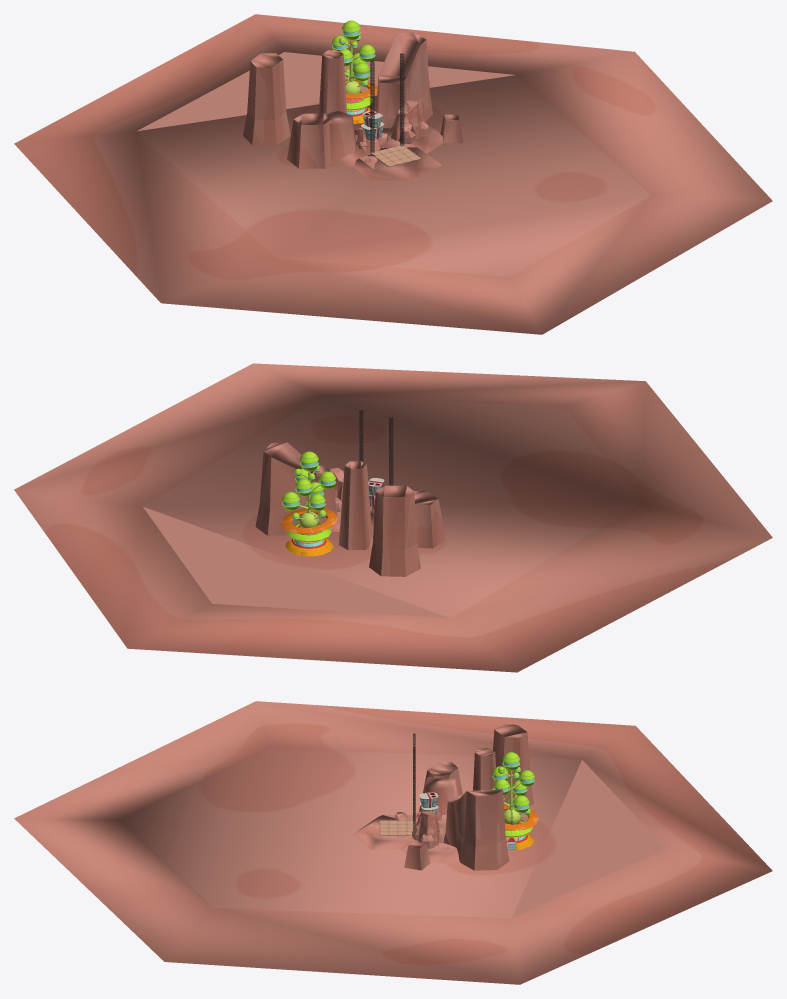
The model's file is Background.glb.
3 views of the same model, one above another, from view 1: azimuth 30°, elevation 25°; view 2: azimuth 150°, elevation 25°; view 3: azimuth 270°, elevation 25° (orthographic). The views are drawn at different scales.
Parts seen in each view (by area): view 1: brokenStone.001, brokenStone.003, GamePalace, brokenStone.002, tallStone.001, Plane; view 2: brokenStone.001, brokenStone.003, GamePalace; view 3: brokenStone.001, brokenStone.003, GamePalace, brokenStone.002, tallStone.001, Plane.
Part boxes in pixels (x1=…): brokenStone.001: x1=14, y1=14, x2=772, y2=334; brokenStone.003: x1=243, y1=32, x2=463, y2=168; GamePalace: x1=332, y1=20, x2=377, y2=123; brokenStone.002: x1=324, y1=111, x2=388, y2=163; tallStone.001: x1=390, y1=100, x2=429, y2=143; Plane: x1=370, y1=145, x2=421, y2=166; brokenStone.001: x1=14, y1=363, x2=772, y2=672; brokenStone.003: x1=255, y1=442, x2=445, y2=576; GamePalace: x1=280, y1=451, x2=337, y2=556; brokenStone.001: x1=14, y1=701, x2=772, y2=984; brokenStone.003: x1=404, y1=724, x2=533, y2=870; GamePalace: x1=491, y1=752, x2=538, y2=849; brokenStone.002: x1=394, y1=777, x2=459, y2=825; tallStone.001: x1=412, y1=811, x2=445, y2=848; Plane: x1=379, y1=820, x2=415, y2=835.
Size of the model in its own units: 475 by 83.98 by 537.
6 materials, 6 textured.
